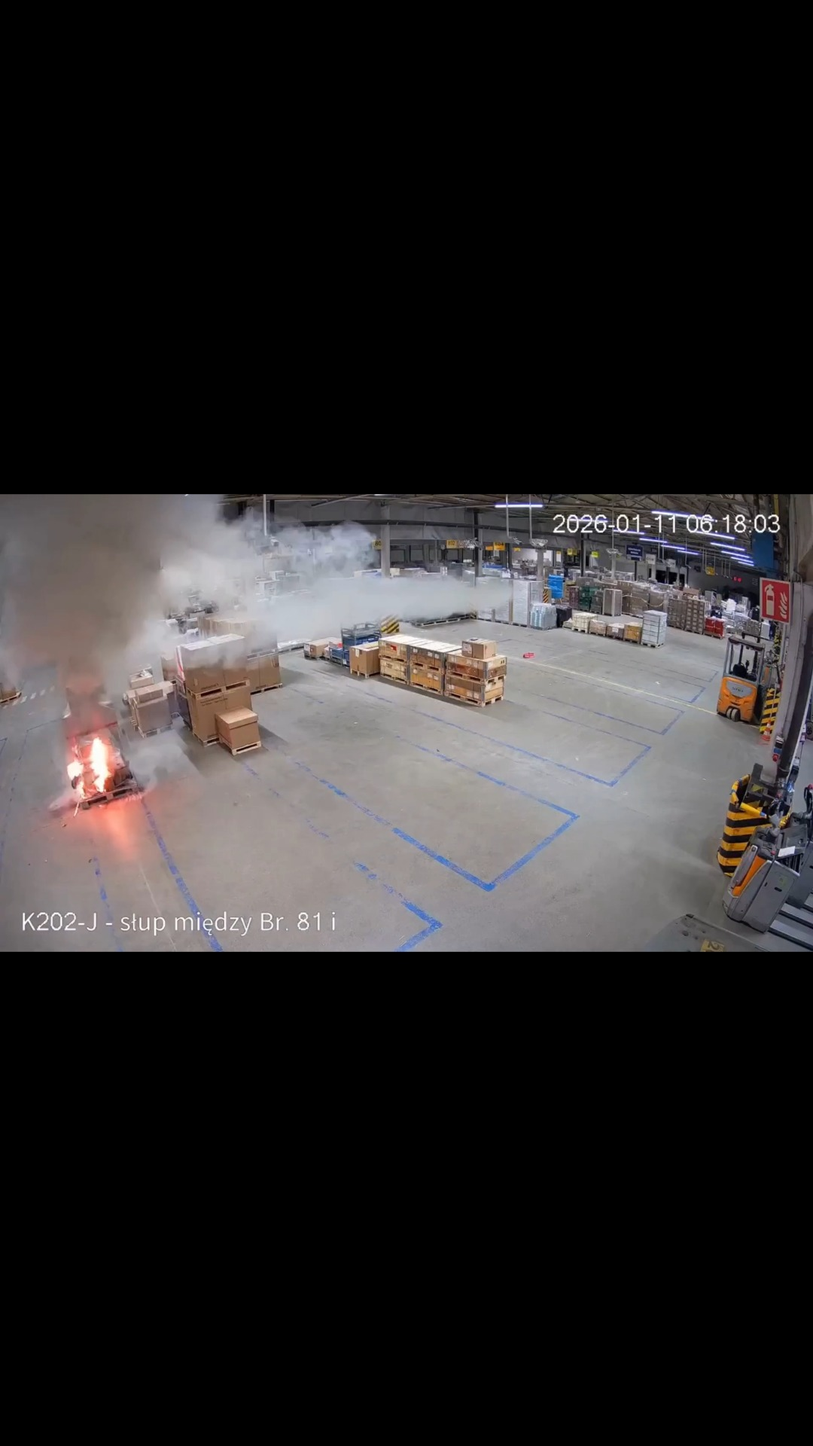fire: (65, 736, 116, 798)
smoke: (0, 495, 375, 736)
